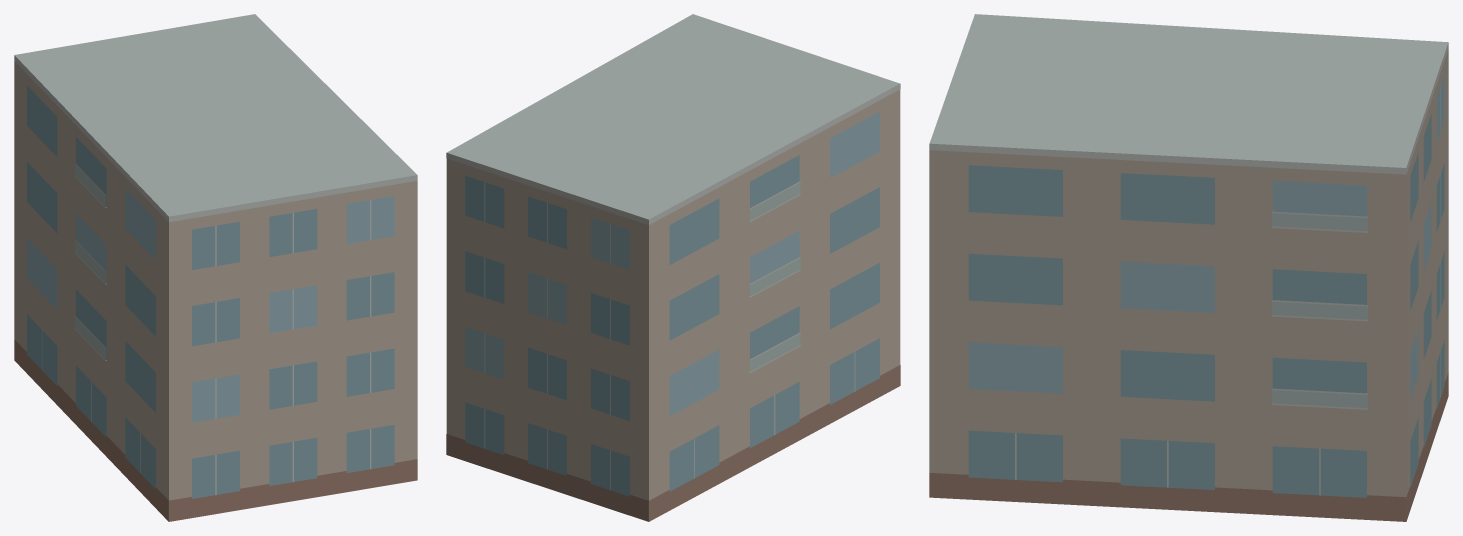
The model's file is survey-upis-32960735.glb.
3 renders of one model, left to right at view 1: azimuth 30°, elevation 25°; view 2: azimuth 150°, elevation 25°; view 3: azimuth 270°, elevation 25°, orthographic. The views are drawn at different scales.
Visible parts, largest first — view 1: survey-upis-32960735.tmp; view 2: survey-upis-32960735.tmp; view 3: survey-upis-32960735.tmp.
Part boxes in pixels (x1,y1,x2,y2): survey-upis-32960735.tmp: (14,14,417,521); survey-upis-32960735.tmp: (446,14,900,521); survey-upis-32960735.tmp: (929,14,1448,521).
Bounding box in the file's own units: 12.33 × 13.2 × 17.56.
